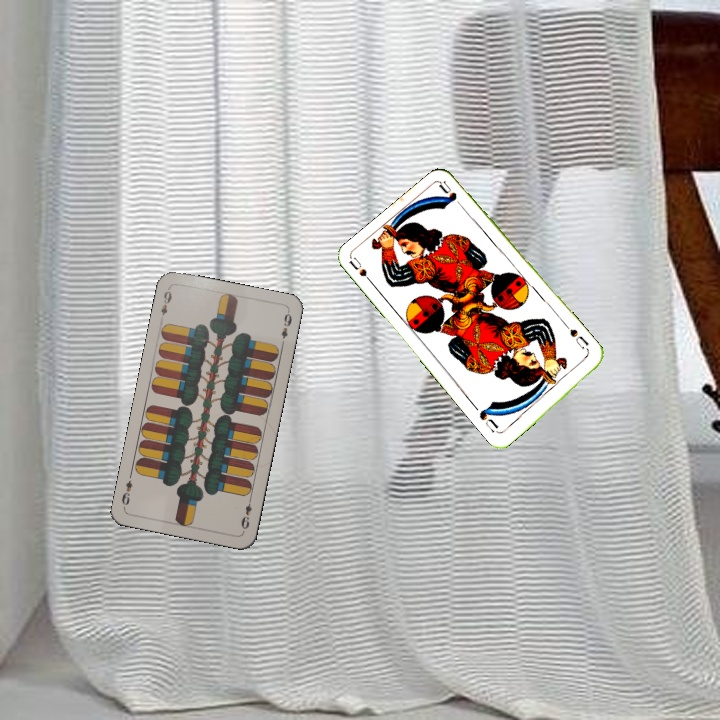E9: (156, 284, 174, 324), (237, 493, 254, 534)
SU: (346, 254, 378, 290), (566, 325, 591, 351)
